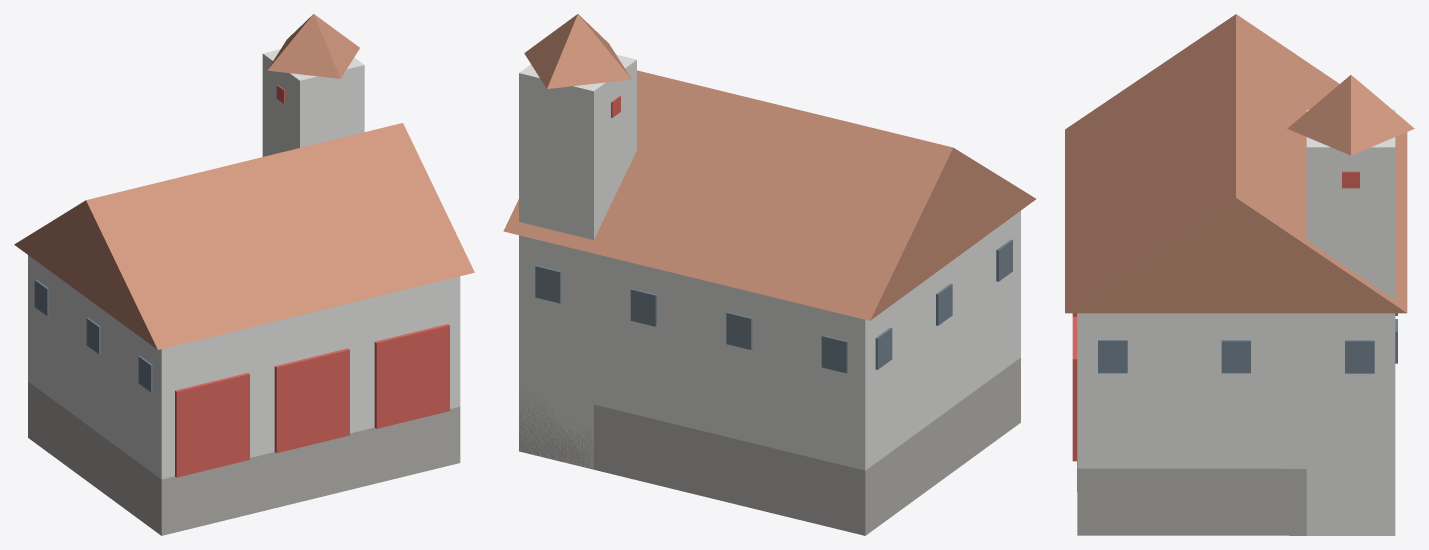
Rendered from fire_station-freiwillige-feuerwehr-sitzenkirch.glb.
3 views of the same model, side by side, from view 1: azimuth 30°, elevation 25°; view 2: azimuth 150°, elevation 25°; view 3: azimuth 270°, elevation 25° (orthographic). The views are drawn at different scales.
Parts seen in each view (by area): view 1: building; view 2: building; view 3: building.
Boxes of the visible parts, x1,y1,x2,y2 form: building: (14, 14, 474, 535); building: (503, 14, 1035, 535); building: (1065, 14, 1414, 535).
Size of the model in its own units: 14.97 by 16.5 by 11.83.
